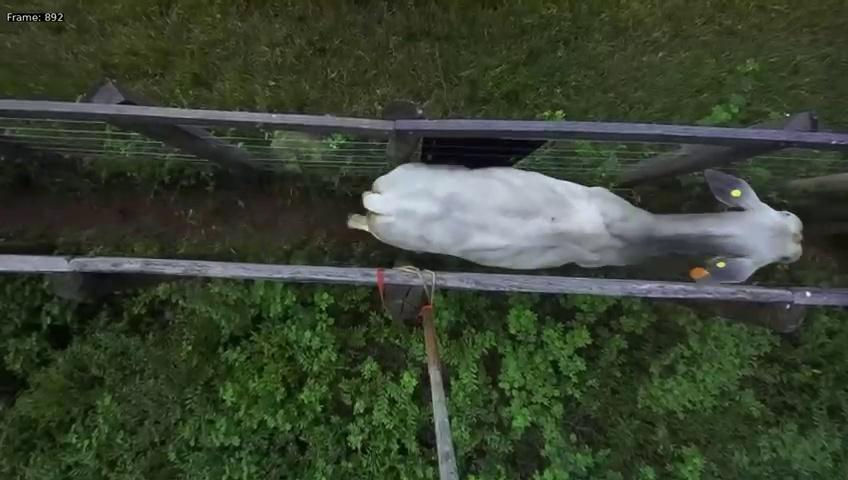cattle: (344, 163, 806, 284)
